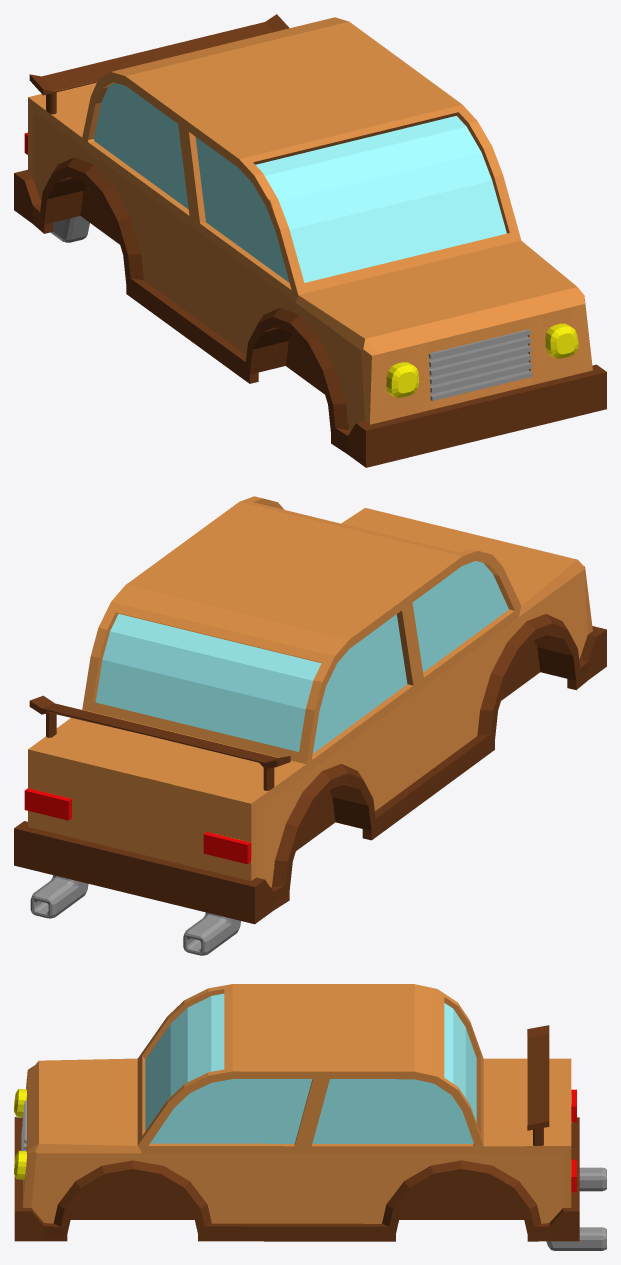
File: car.gltf
3 views of the same model, one above another, from view 1: azimuth 30°, elevation 25°; view 2: azimuth 150°, elevation 25°; view 3: azimuth 270°, elevation 25° (orthographic). The views are drawn at different scales.
Visible parts, largest first — view 1: Car; view 2: Car; view 3: Car.
Part boxes in pixels (left/top/right/bottom): Car: left=14, top=14, right=606, bottom=467; Car: left=14, top=496, right=606, bottom=955; Car: left=14, top=984, right=606, bottom=1250.
Bounding box in the file's own units: 4.18 × 3.83 × 10.81.
1 material, 1 textured.
